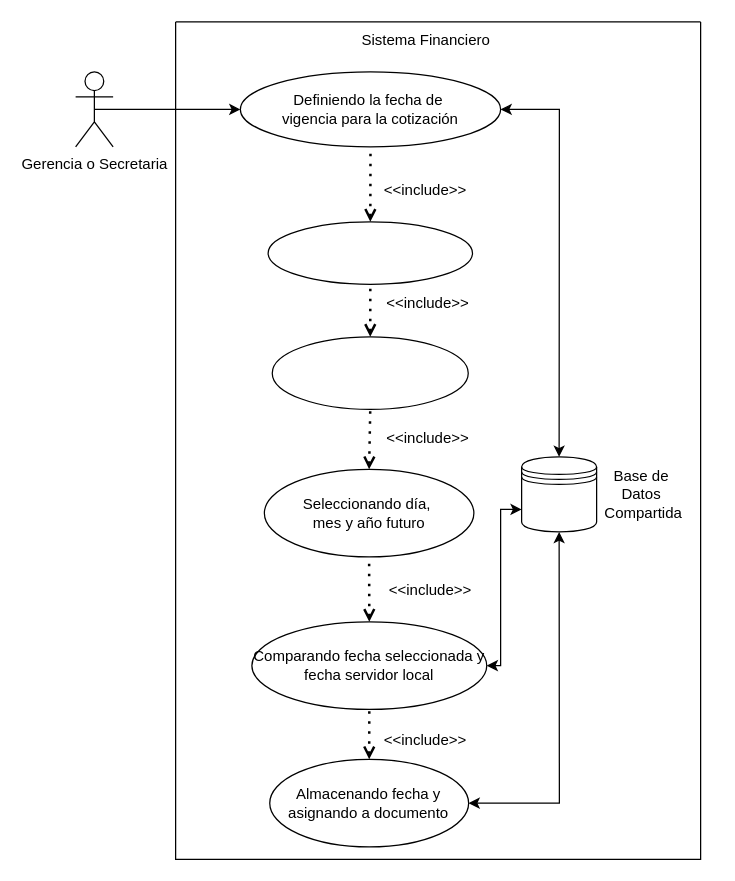
Some shapes in this 735 by 881 pixel diagram are drawn without their labels. The shapes that lost their labels are listed below. From the top down, each one's centre as x and y in pixels, then its label:
[369,252]: Seleccionando campo "Fecha de Vigencia"
[369,372]: Desplegando calendario interactivo
